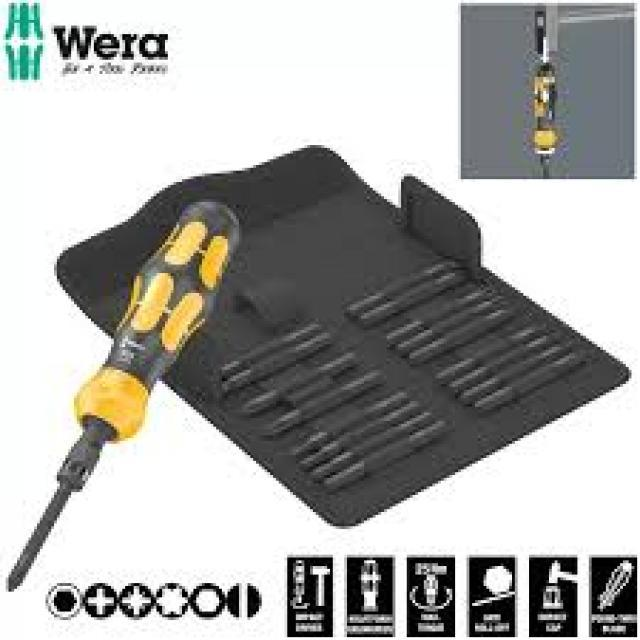screwdriver: (0, 196, 242, 594)
